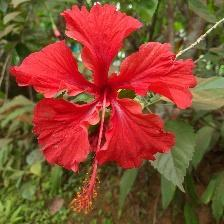hibiscus: (12, 1, 199, 219)
